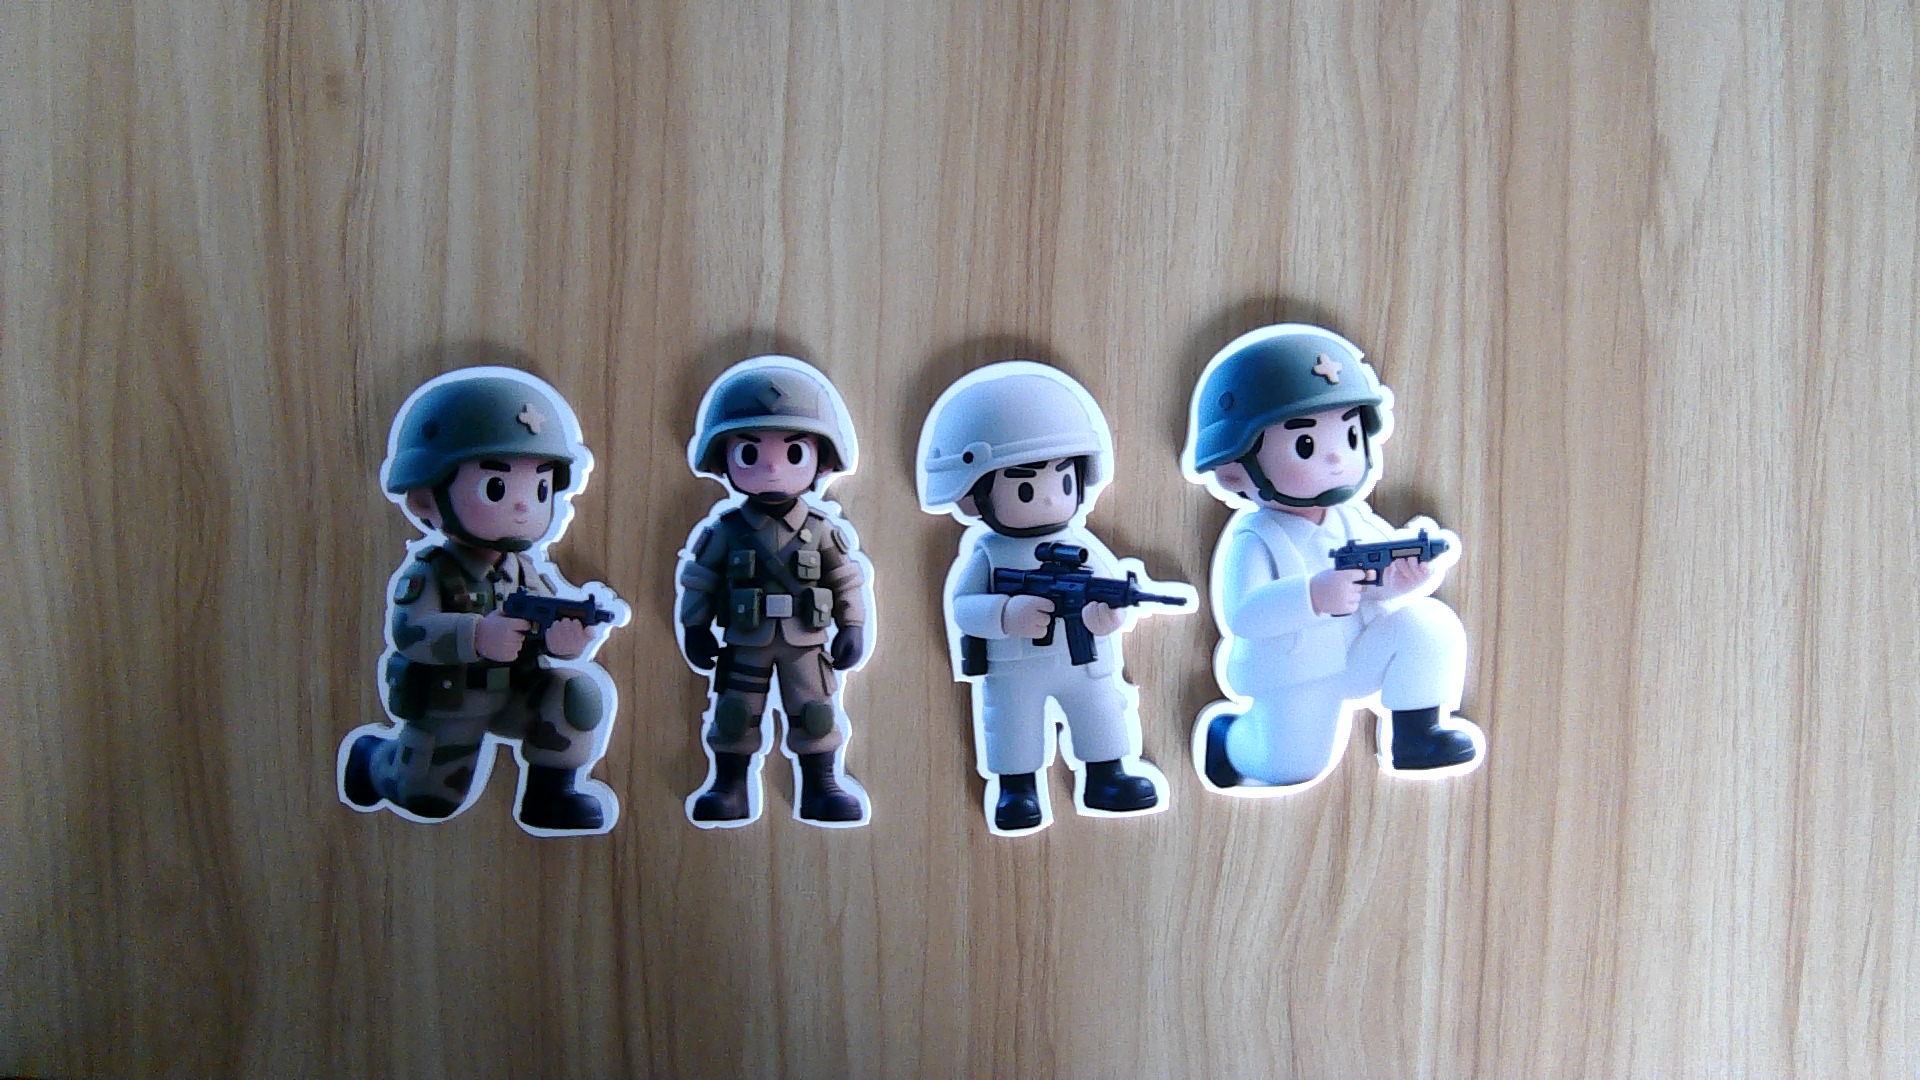人质: (1189, 516, 1502, 795), (926, 541, 1189, 840)
友军: (326, 541, 636, 837), (662, 501, 890, 837)
